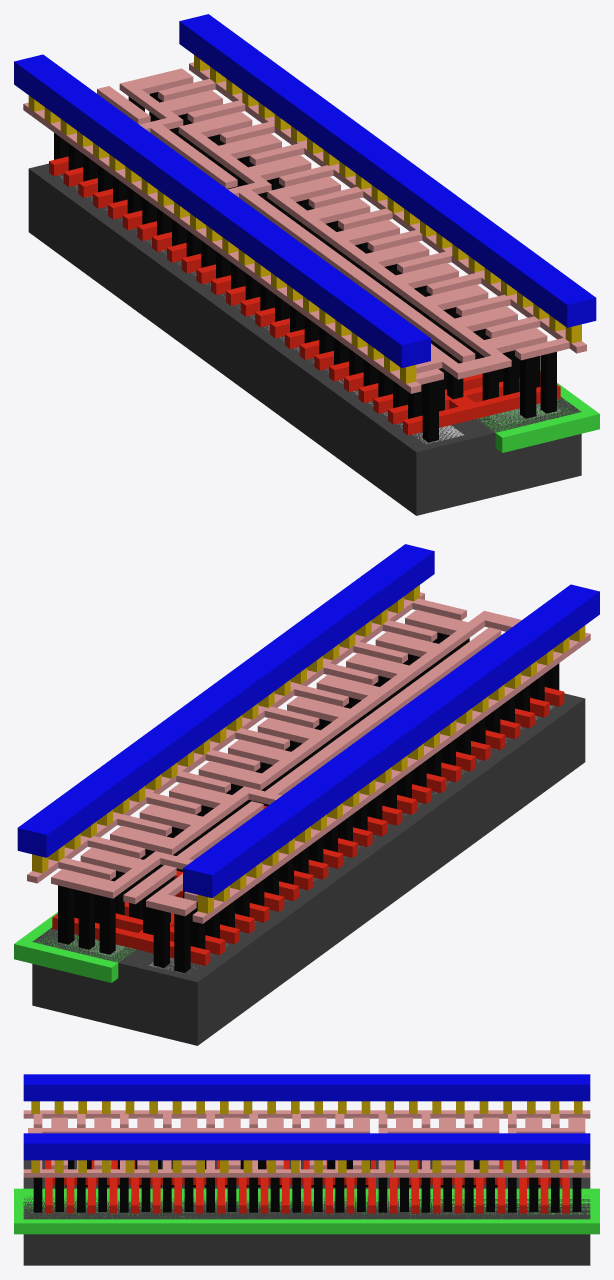
File: sky130_fd_sc_hd__bufinv_16.obj
The picture shows the model from 3 angles, top to bottom: view 1: azimuth 30°, elevation 25°; view 2: azimuth 150°, elevation 25°; view 3: azimuth 270°, elevation 25°; orthographic projection. The views are drawn at different scales.
Visible parts, largest first — view 1: metal1, li, subs, licon, poly, mcon, nwell; view 2: metal1, li, subs, licon, poly, mcon, nwell; view 3: metal1, subs, li, nwell, licon, poly, mcon.
Boxes of the visible parts, box(x1,y1,x2,y2) form: metal1: box(14, 14, 596, 367); li: box(23, 62, 586, 393); subs: box(28, 163, 581, 515); licon: box(54, 92, 556, 442); poly: box(49, 156, 560, 435); mcon: box(28, 55, 581, 383); nwell: box(478, 370, 599, 452); metal1: box(17, 544, 599, 897); li: box(27, 592, 590, 923); subs: box(32, 693, 585, 1045); licon: box(58, 632, 559, 972); poly: box(52, 687, 564, 965); mcon: box(32, 585, 585, 913); nwell: box(14, 912, 135, 982); metal1: box(23, 1074, 590, 1160); subs: box(23, 1160, 590, 1265); li: box(23, 1110, 590, 1177); nwell: box(14, 1188, 599, 1234); licon: box(33, 1160, 581, 1212); poly: box(45, 1160, 569, 1213); mcon: box(31, 1101, 582, 1172).
Bounding box in the file's own units: 3.2 × 2.74 × 11.42.
